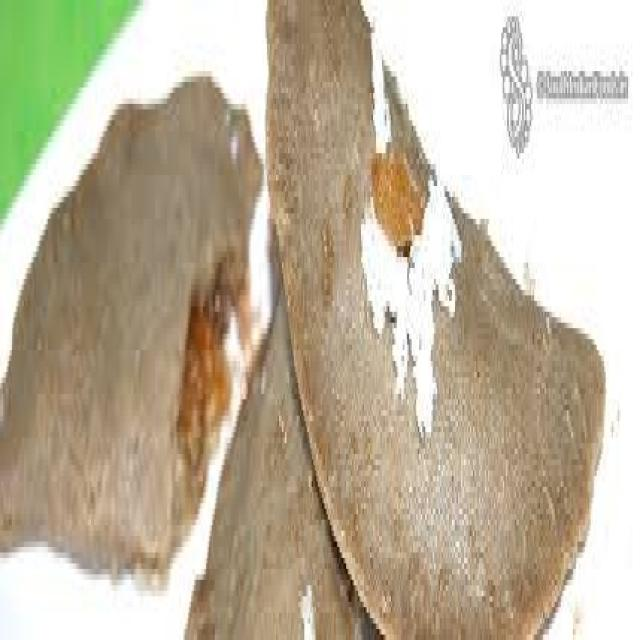poorna kolukattai: (0, 10, 620, 640)
